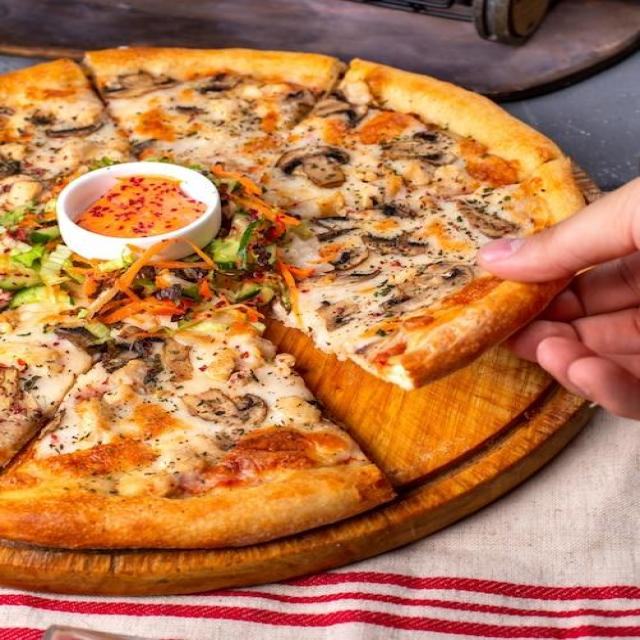pizza: (0, 45, 590, 548)
